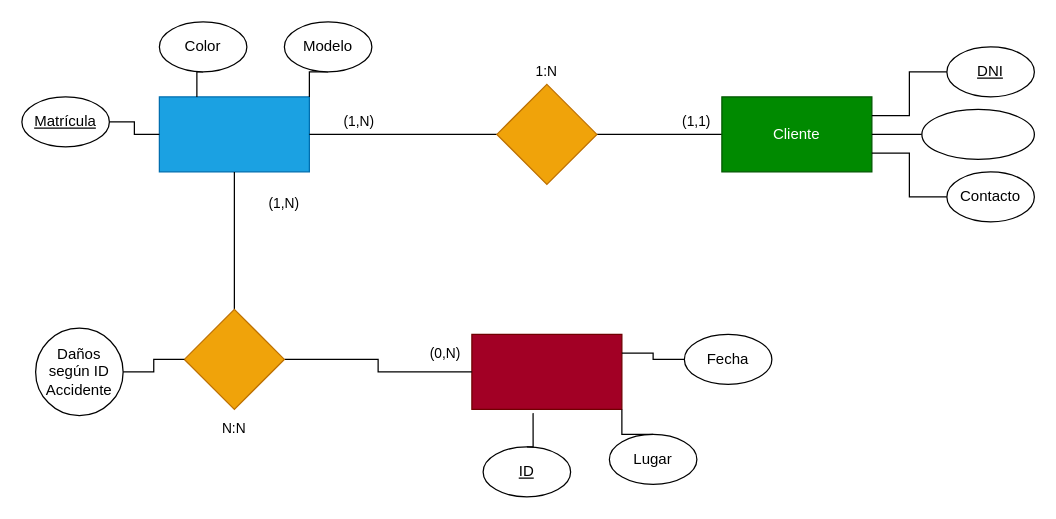
Image size: 1056x519. Some labels were removed from this diagram. The centre of each missing label's shape, as x and y in pixels:
"Accidente" goes at point 546,371.
"Coches" goes at point 233,134.
"Nombre_titular" goes at point 977,133.
"suceder" goes at point 233,358.
"Tiene" goes at point 546,133.
